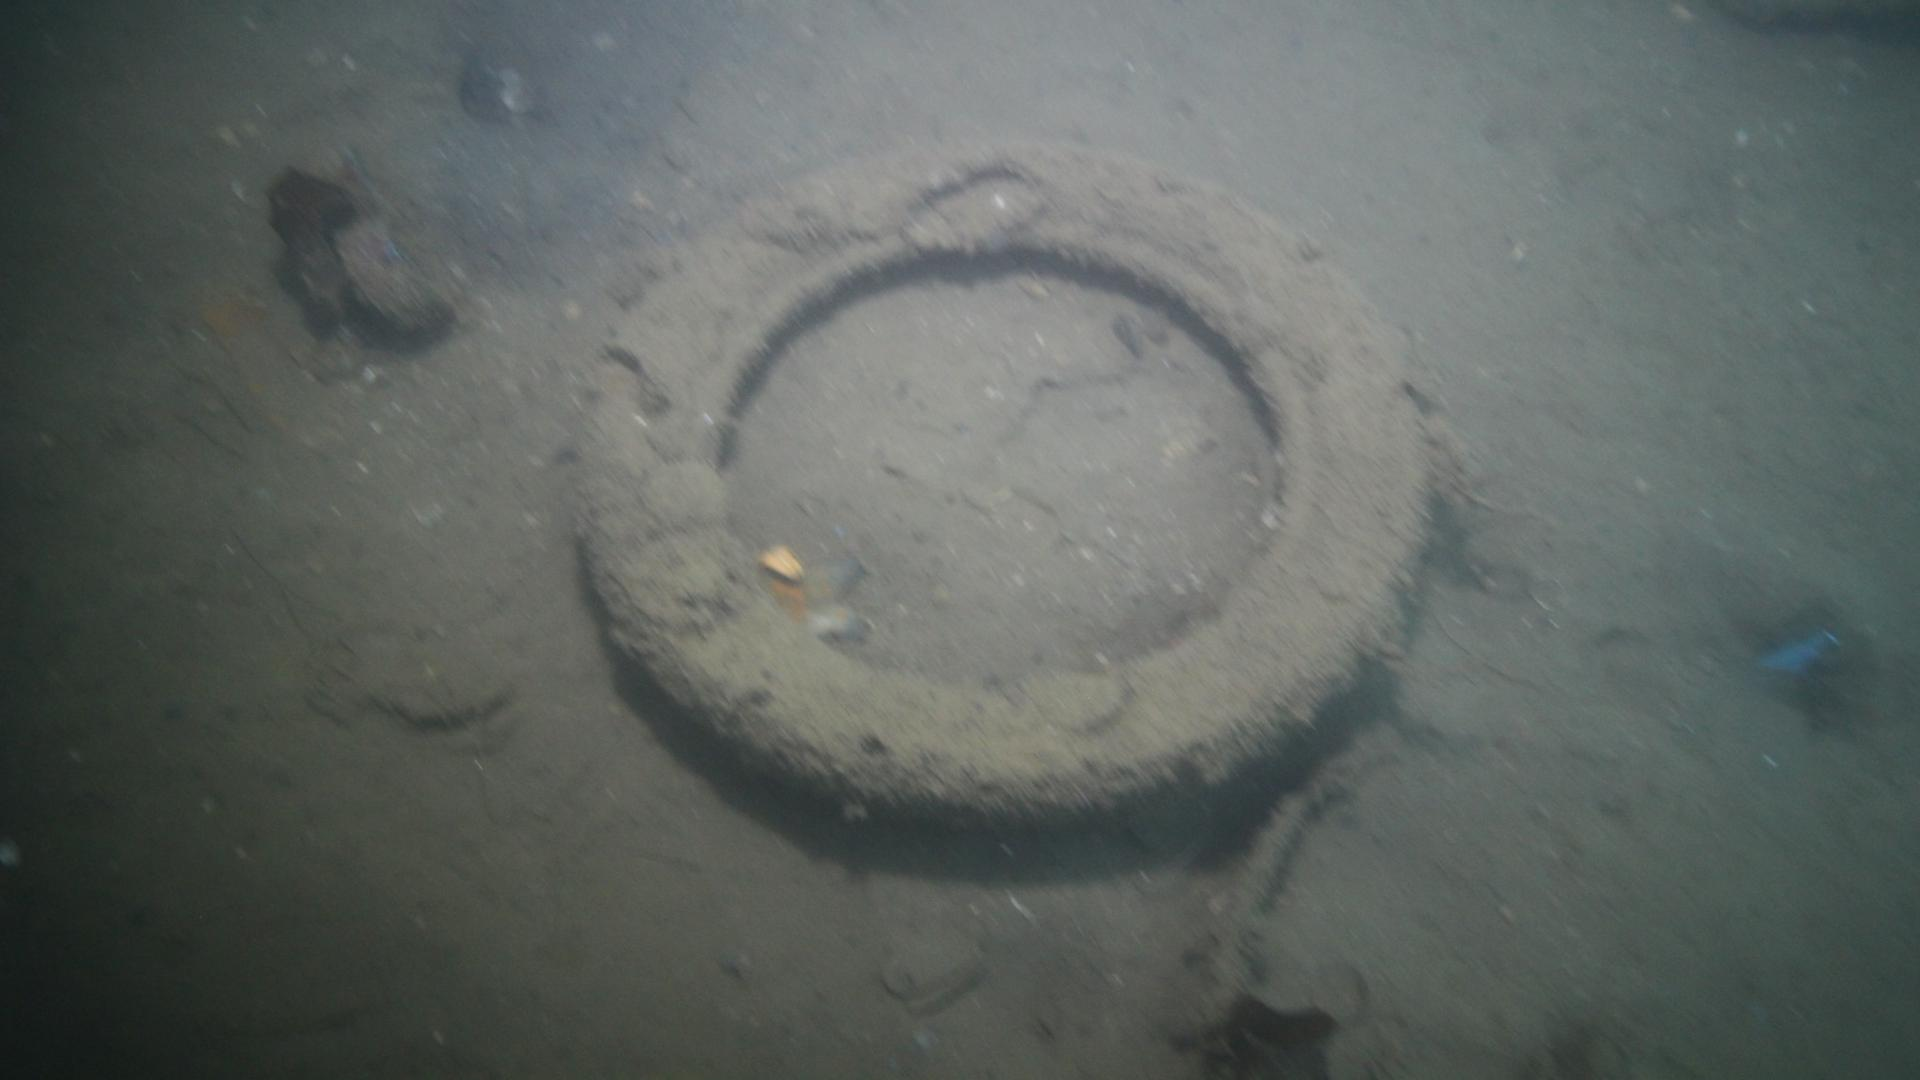tire: (572, 137, 1431, 824)
